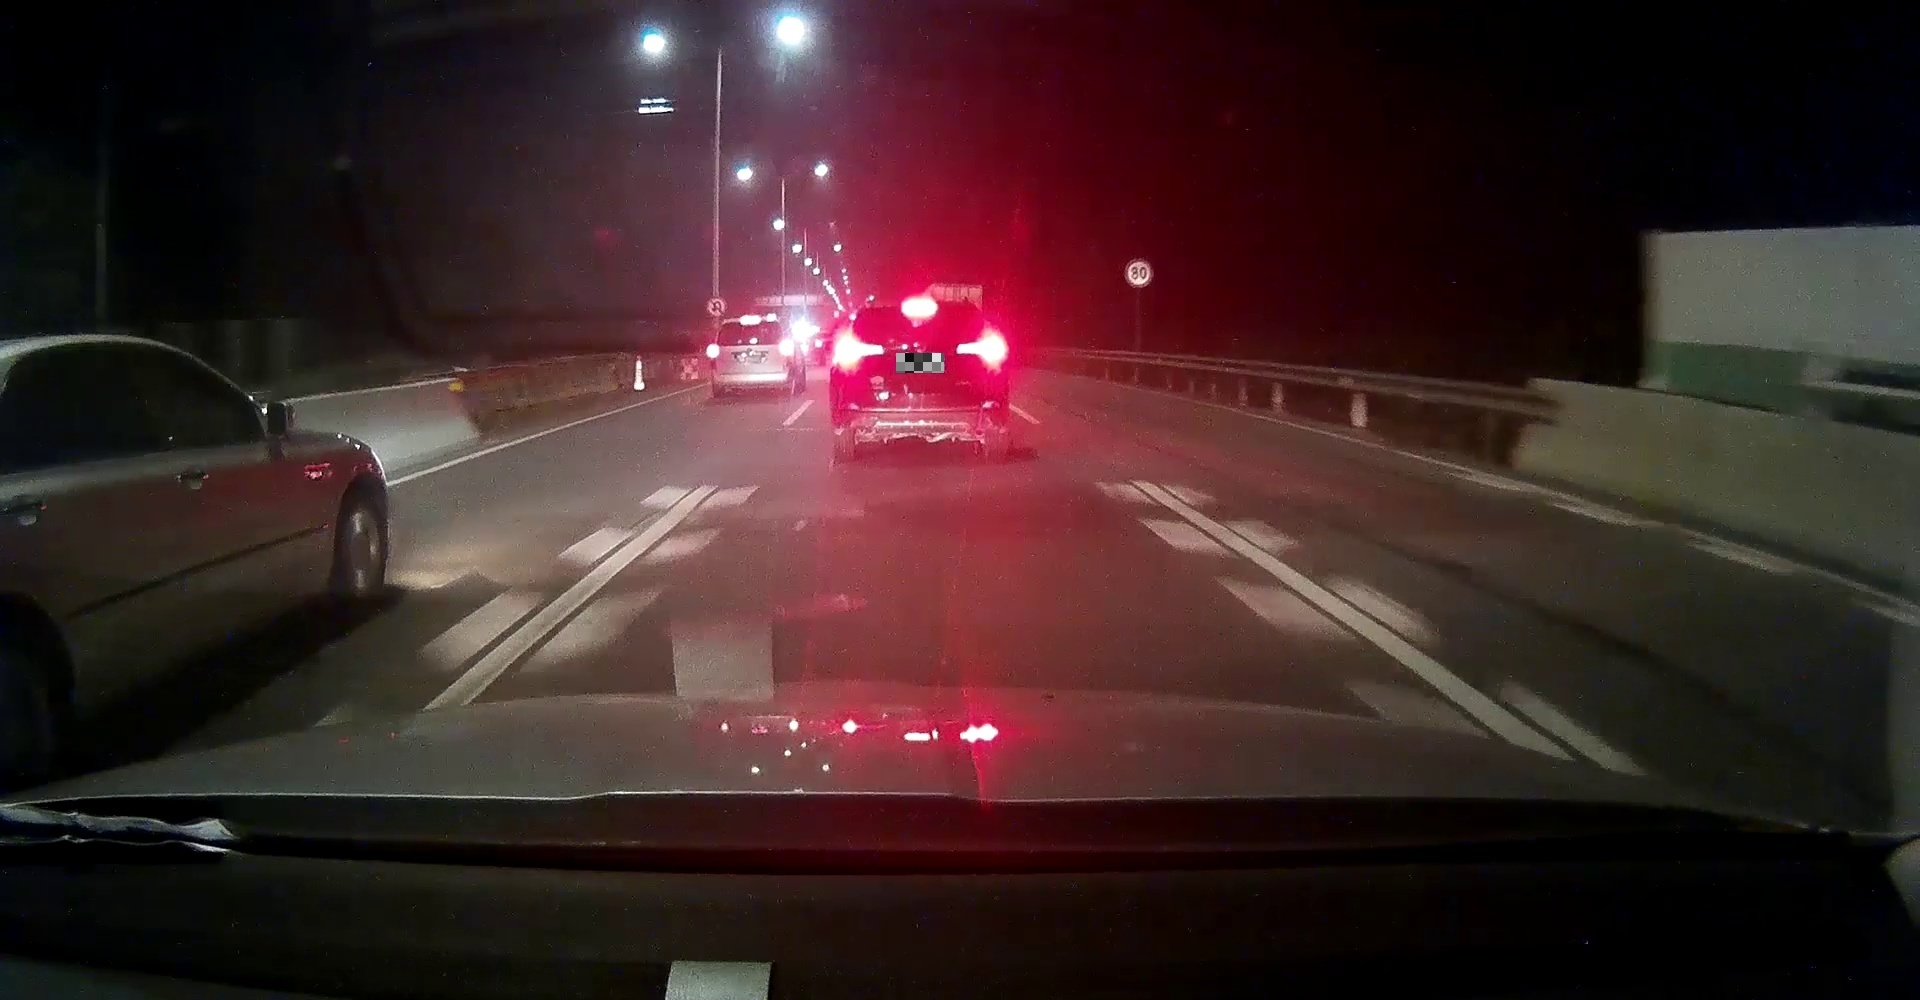L_light: (830, 341, 884, 365), (710, 344, 719, 359)
R_light: (956, 338, 1008, 360), (785, 341, 792, 357)
T_light: (902, 302, 937, 310), (742, 319, 759, 324)
night-brake: (828, 296, 1011, 458), (709, 313, 795, 398)
plate_1: (897, 353, 943, 373)
